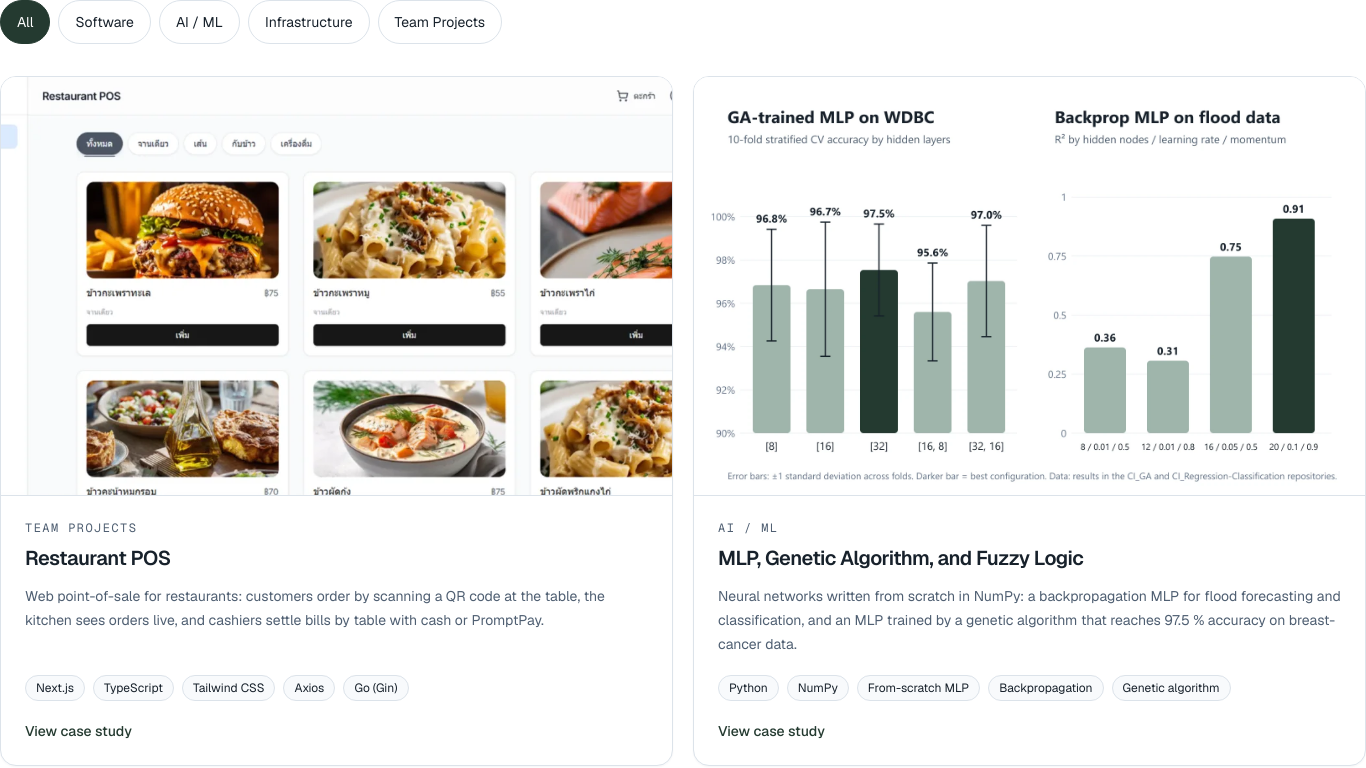
it: ProjectFilters › shows an empty state when the filter matches nothing
Click the button "Infrastructure" at (309, 22), box [248,0,370,44]
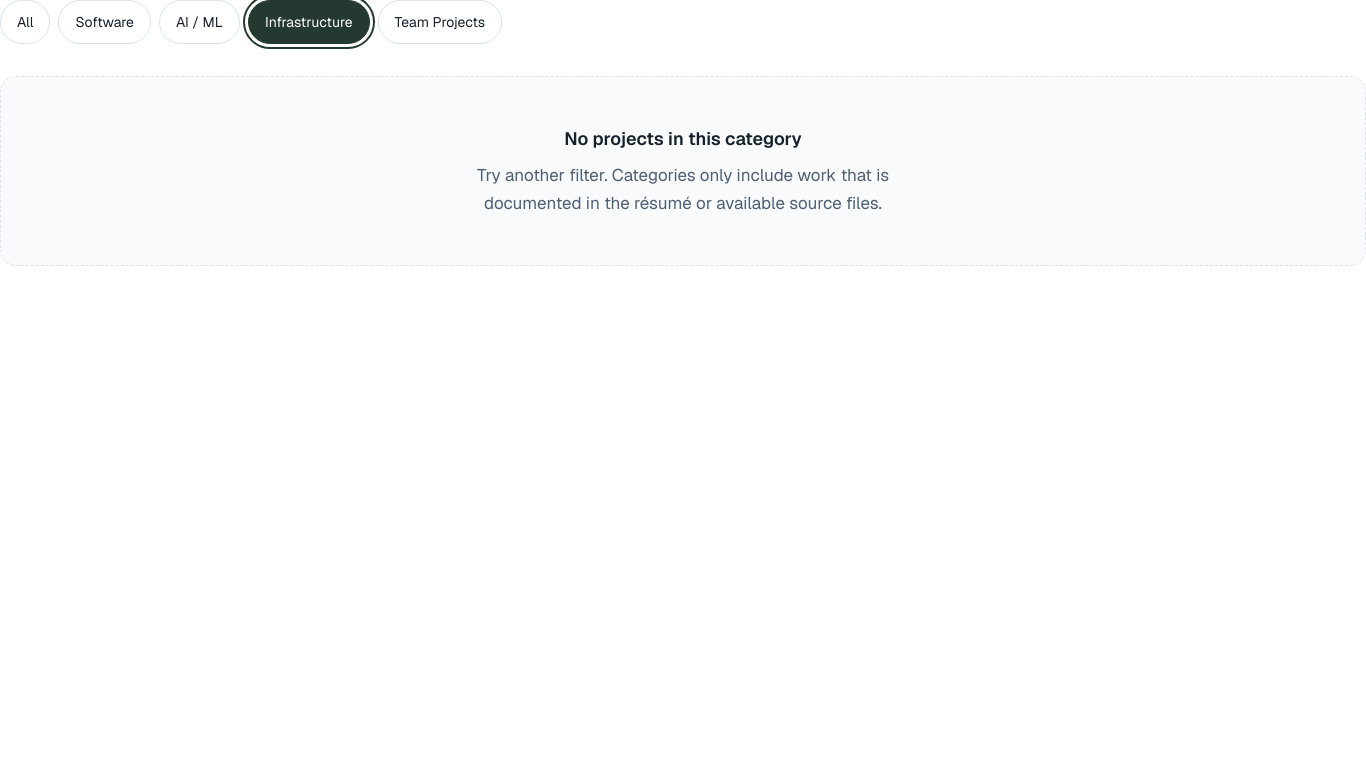
Expected: the heading "No projects in this category" is shown, [564,127,802,150]
